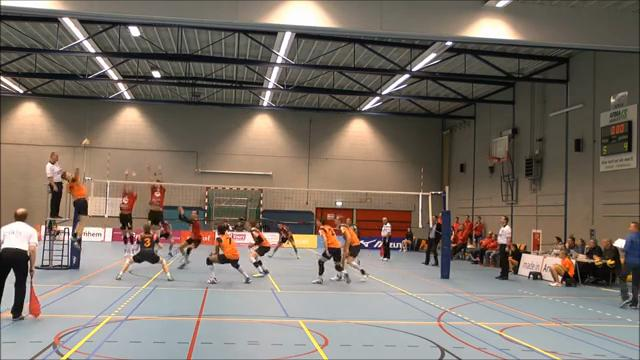attacco: (57, 150, 91, 255)
muro: (115, 162, 138, 260), (143, 159, 166, 230)
